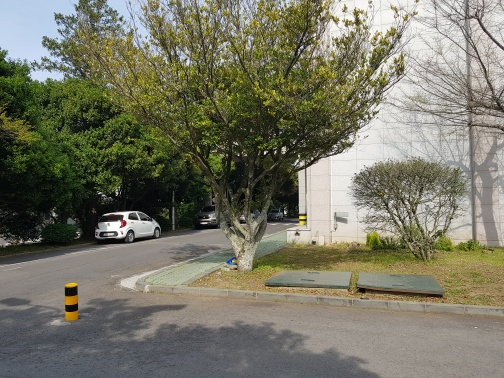College of Nursing: (311, 13, 493, 248)
